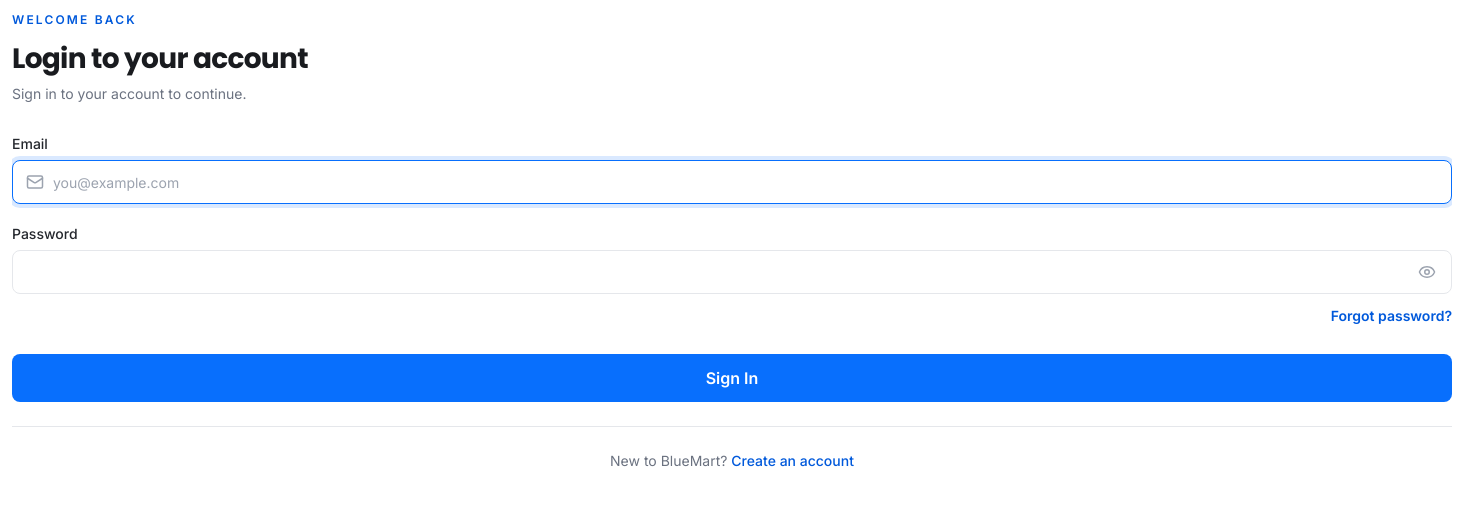
Scenario: LoginPage › maps server field errors onto the inputs
In the field labelled "Email": (732, 182) [12,160,1452,204], type "jane@example.com"
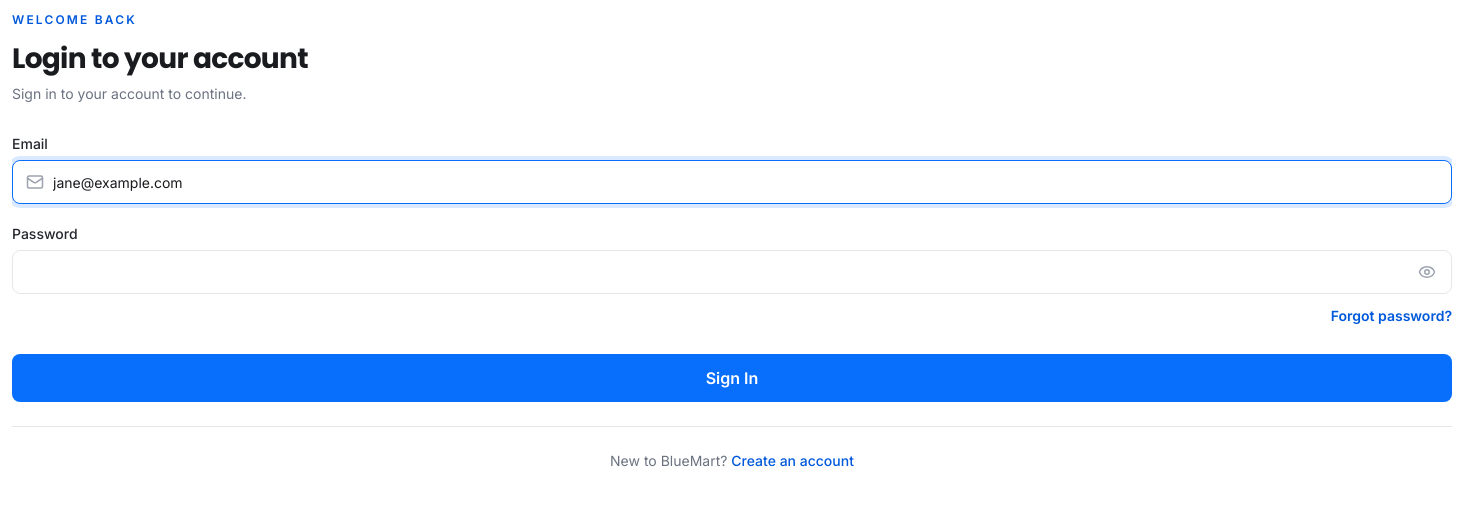
In the password field labelled "Password": (732, 272) [12,250,1452,294], type "Secret123"
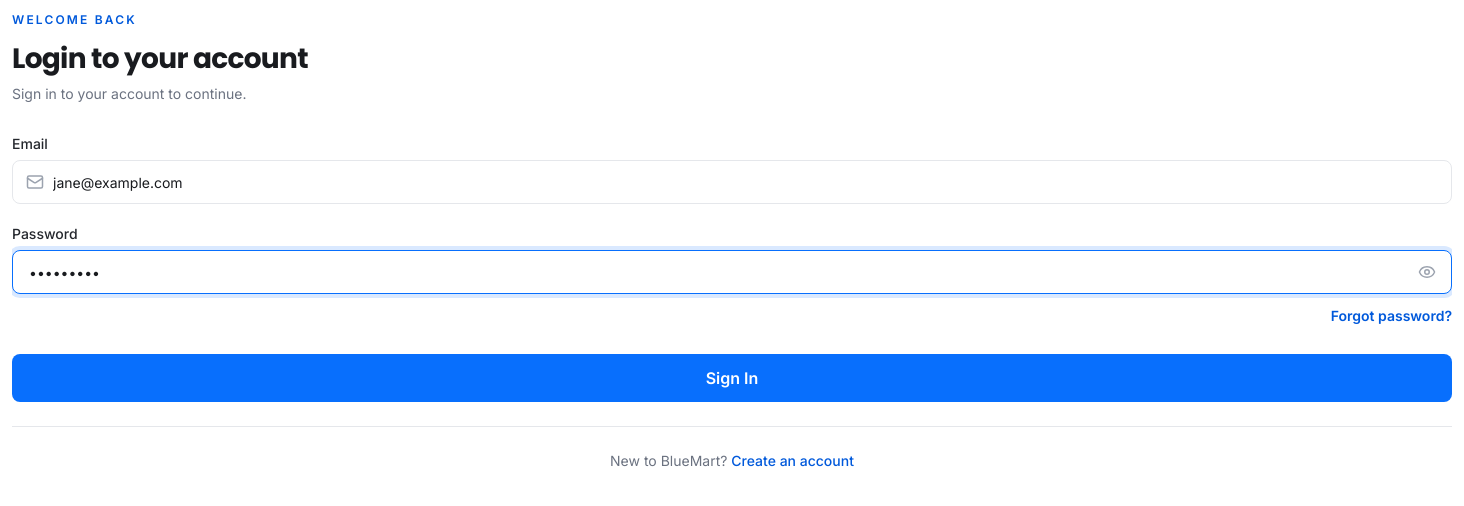
Click the button "Sign In": (732, 378) [12,354,1452,402]
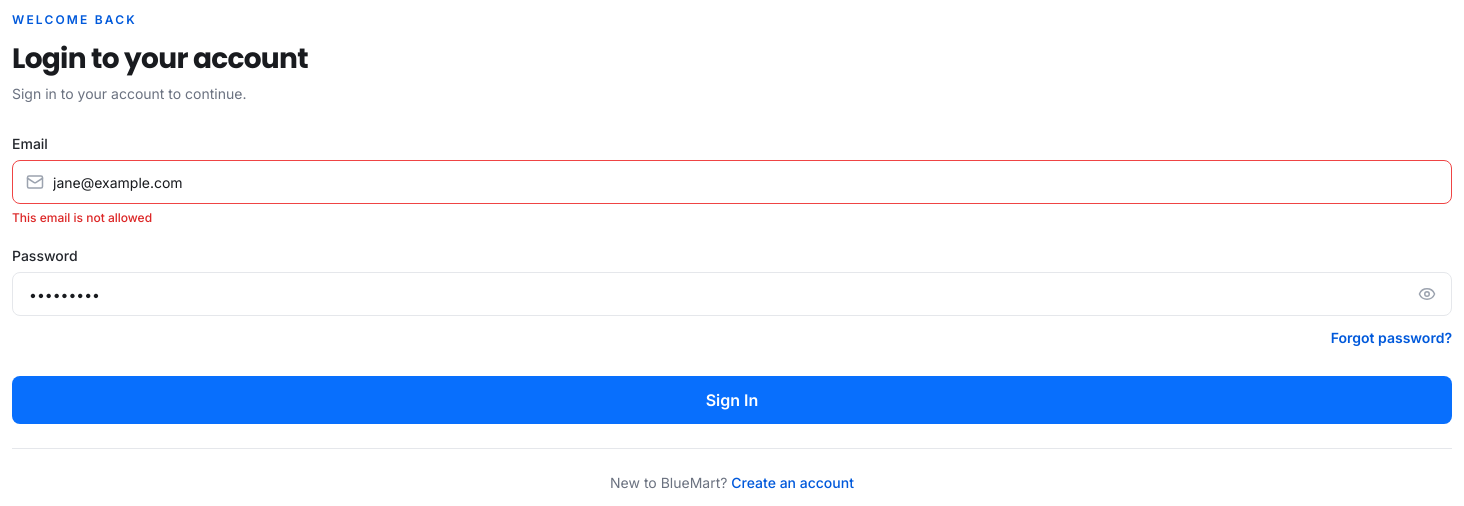
Expected: the text "This email is not allowed" is shown, [12,210,152,225]
